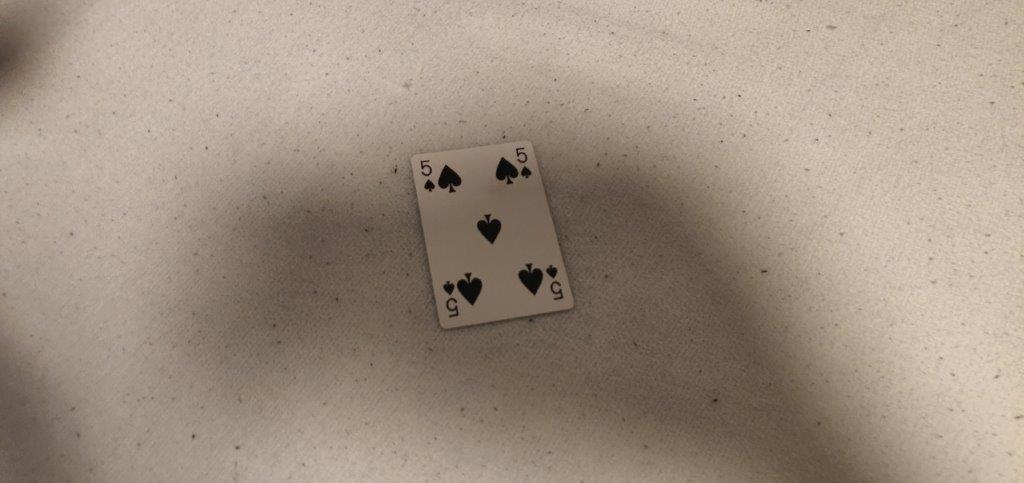5S: (514, 144, 537, 183), (414, 158, 437, 195)
